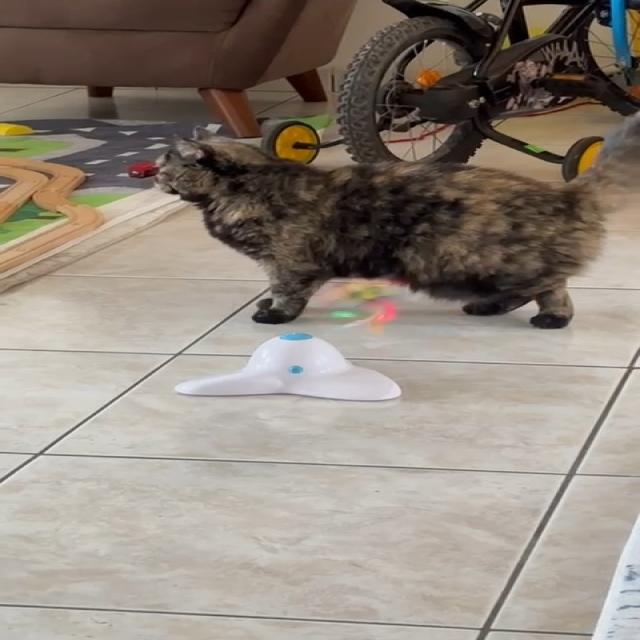authorized: (151, 119, 628, 329)
